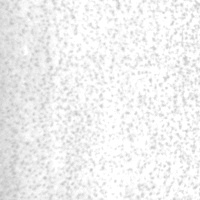pitted_surface: (2, 1, 199, 200)
